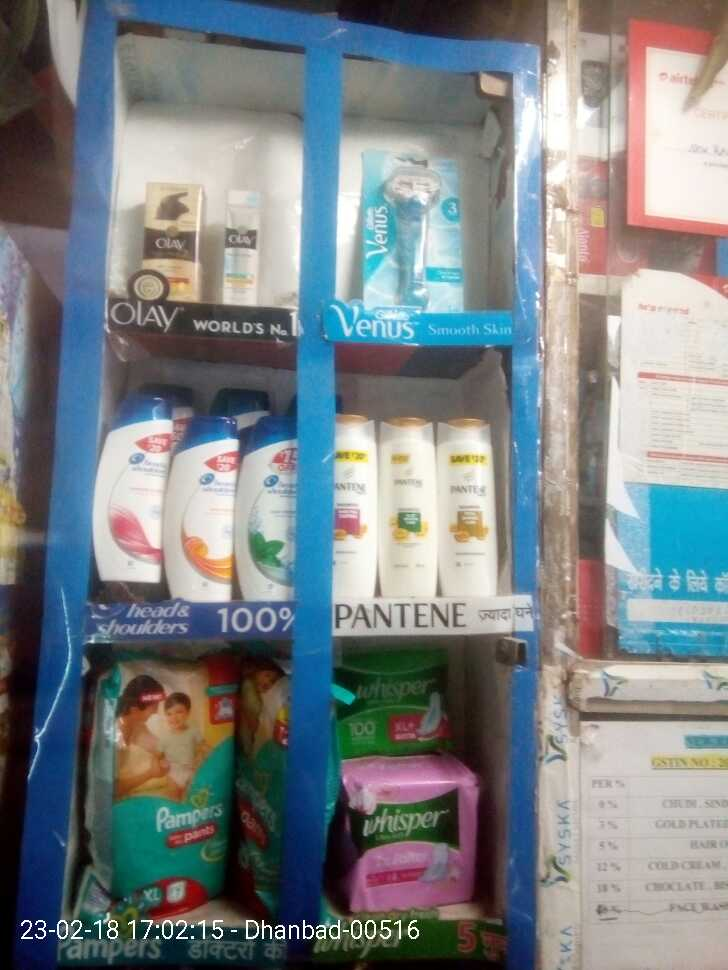venus: (365, 157, 458, 297)
